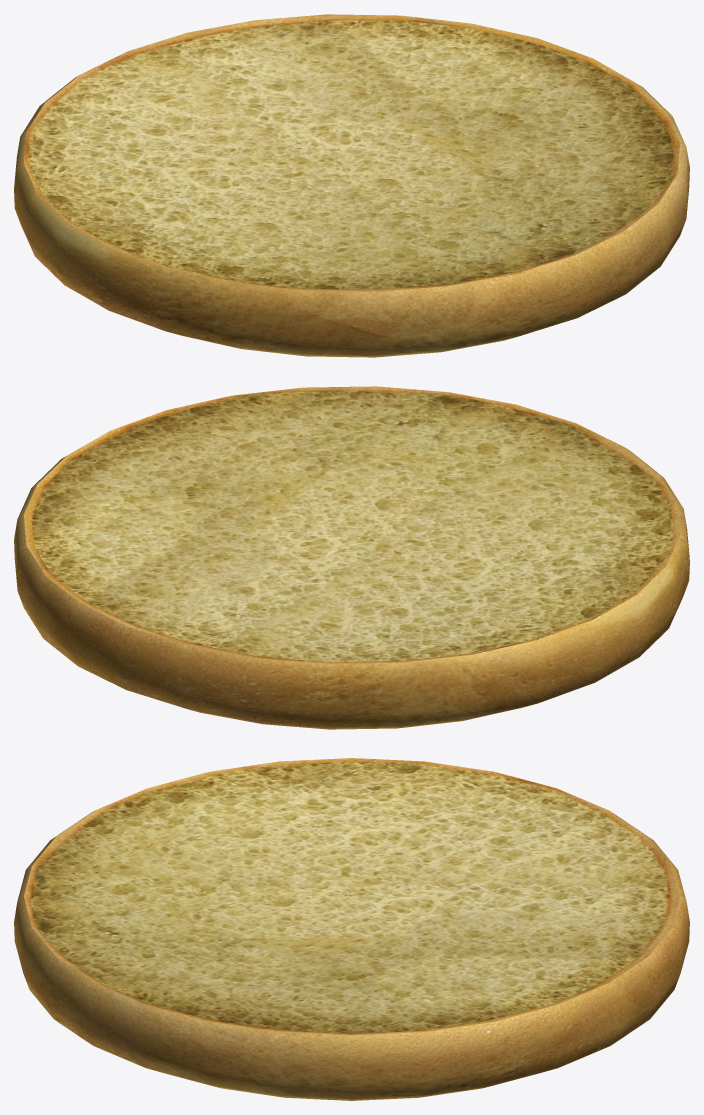
Rendered from bun2.glb.
The picture shows the model from 3 angles, top to bottom: view 1: azimuth 30°, elevation 25°; view 2: azimuth 150°, elevation 25°; view 3: azimuth 270°, elevation 25°; orthographic projection.
Parts seen in each view (by area): view 1: bun2N3; view 2: bun2N3; view 3: bun2N3.
Boxes of the visible parts, <box> form: bun2N3: <box>14,14,689,357</box>; bun2N3: <box>14,386,689,729</box>; bun2N3: <box>14,758,689,1100</box>.
Bounding box in the file's own units: 0.0947 × 0.0129 × 0.0947.
1 material, 1 textured.
